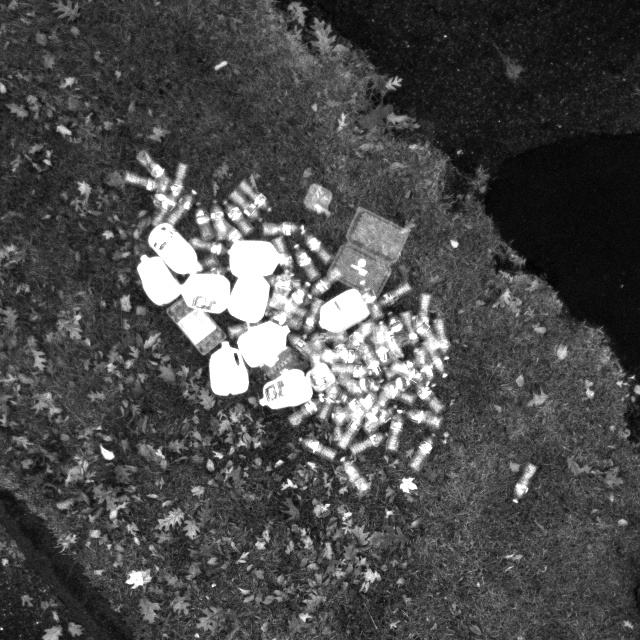bottle: (364, 382, 400, 432), (410, 312, 445, 360), (234, 175, 274, 214), (221, 196, 257, 238), (285, 393, 328, 428), (185, 231, 234, 261), (134, 145, 171, 184), (164, 186, 199, 226), (289, 240, 321, 283), (303, 264, 341, 300), (410, 378, 448, 414), (408, 431, 440, 473), (334, 410, 366, 452), (227, 186, 264, 222), (338, 454, 373, 492), (508, 461, 537, 506), (356, 277, 386, 320), (376, 318, 405, 362), (344, 429, 391, 456), (280, 277, 311, 317), (374, 278, 414, 309), (297, 432, 339, 461), (149, 187, 179, 227), (303, 230, 336, 266), (332, 367, 368, 400), (423, 336, 450, 379), (208, 197, 234, 241), (299, 294, 324, 339), (410, 344, 438, 384), (384, 407, 408, 453), (262, 305, 304, 331), (430, 313, 452, 362), (122, 167, 164, 192), (192, 197, 215, 241), (286, 330, 319, 360), (404, 405, 443, 430), (167, 159, 190, 201), (258, 218, 306, 238), (369, 318, 389, 365), (272, 292, 308, 318), (317, 380, 340, 420), (269, 267, 292, 306), (271, 235, 293, 275), (305, 326, 349, 346), (150, 174, 172, 213), (413, 290, 432, 335), (340, 324, 374, 349), (224, 319, 266, 339), (217, 218, 246, 246), (328, 361, 371, 379), (320, 348, 360, 366), (203, 263, 231, 278)
can: (145, 220, 205, 277), (134, 250, 184, 308), (205, 337, 252, 398), (257, 366, 316, 414), (236, 321, 291, 369), (317, 286, 371, 334), (226, 274, 273, 325), (228, 238, 287, 278), (176, 271, 232, 313)
container: (323, 206, 412, 299), (164, 291, 232, 358), (259, 347, 308, 382), (302, 183, 335, 214)
